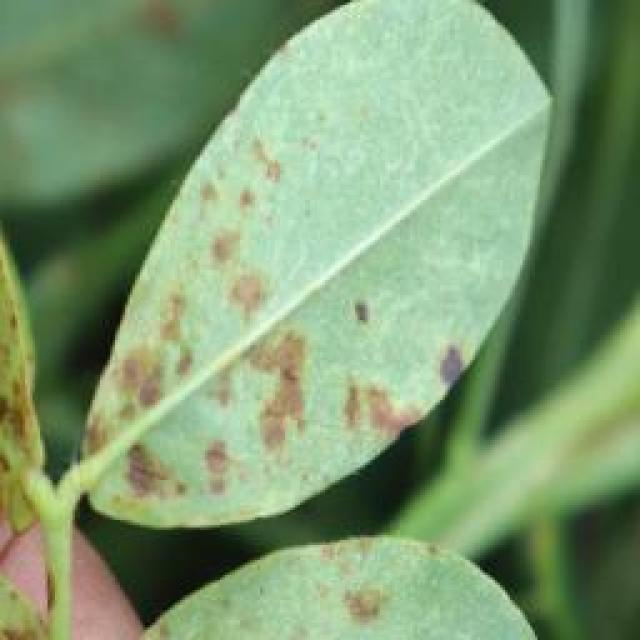Whitefly: (0, 92, 438, 640)
